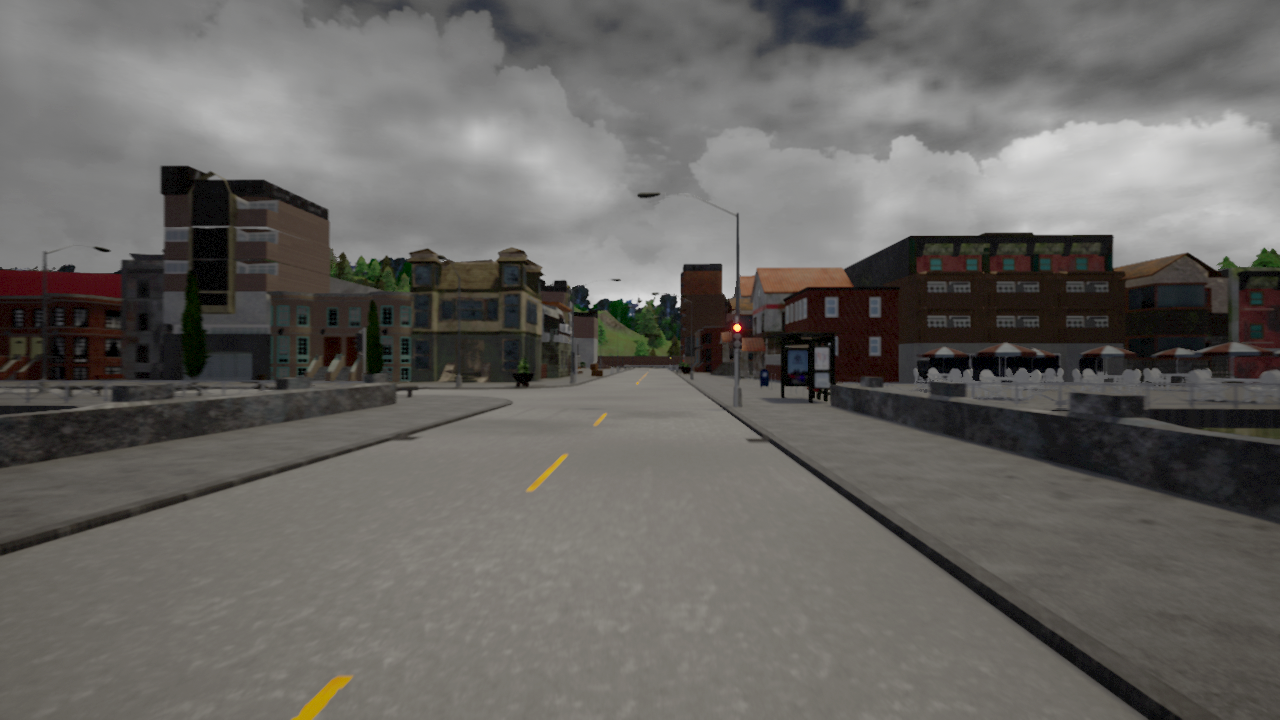red: (731, 322, 743, 348)
